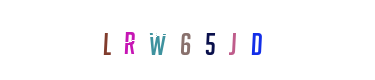5: (147, 0, 227, 80)
6: (145, 0, 225, 80)
D: (216, 0, 296, 80)
J: (170, 0, 250, 80)
L: (119, 0, 199, 80)
R: (121, 0, 201, 80)
W: (129, 0, 209, 80)
